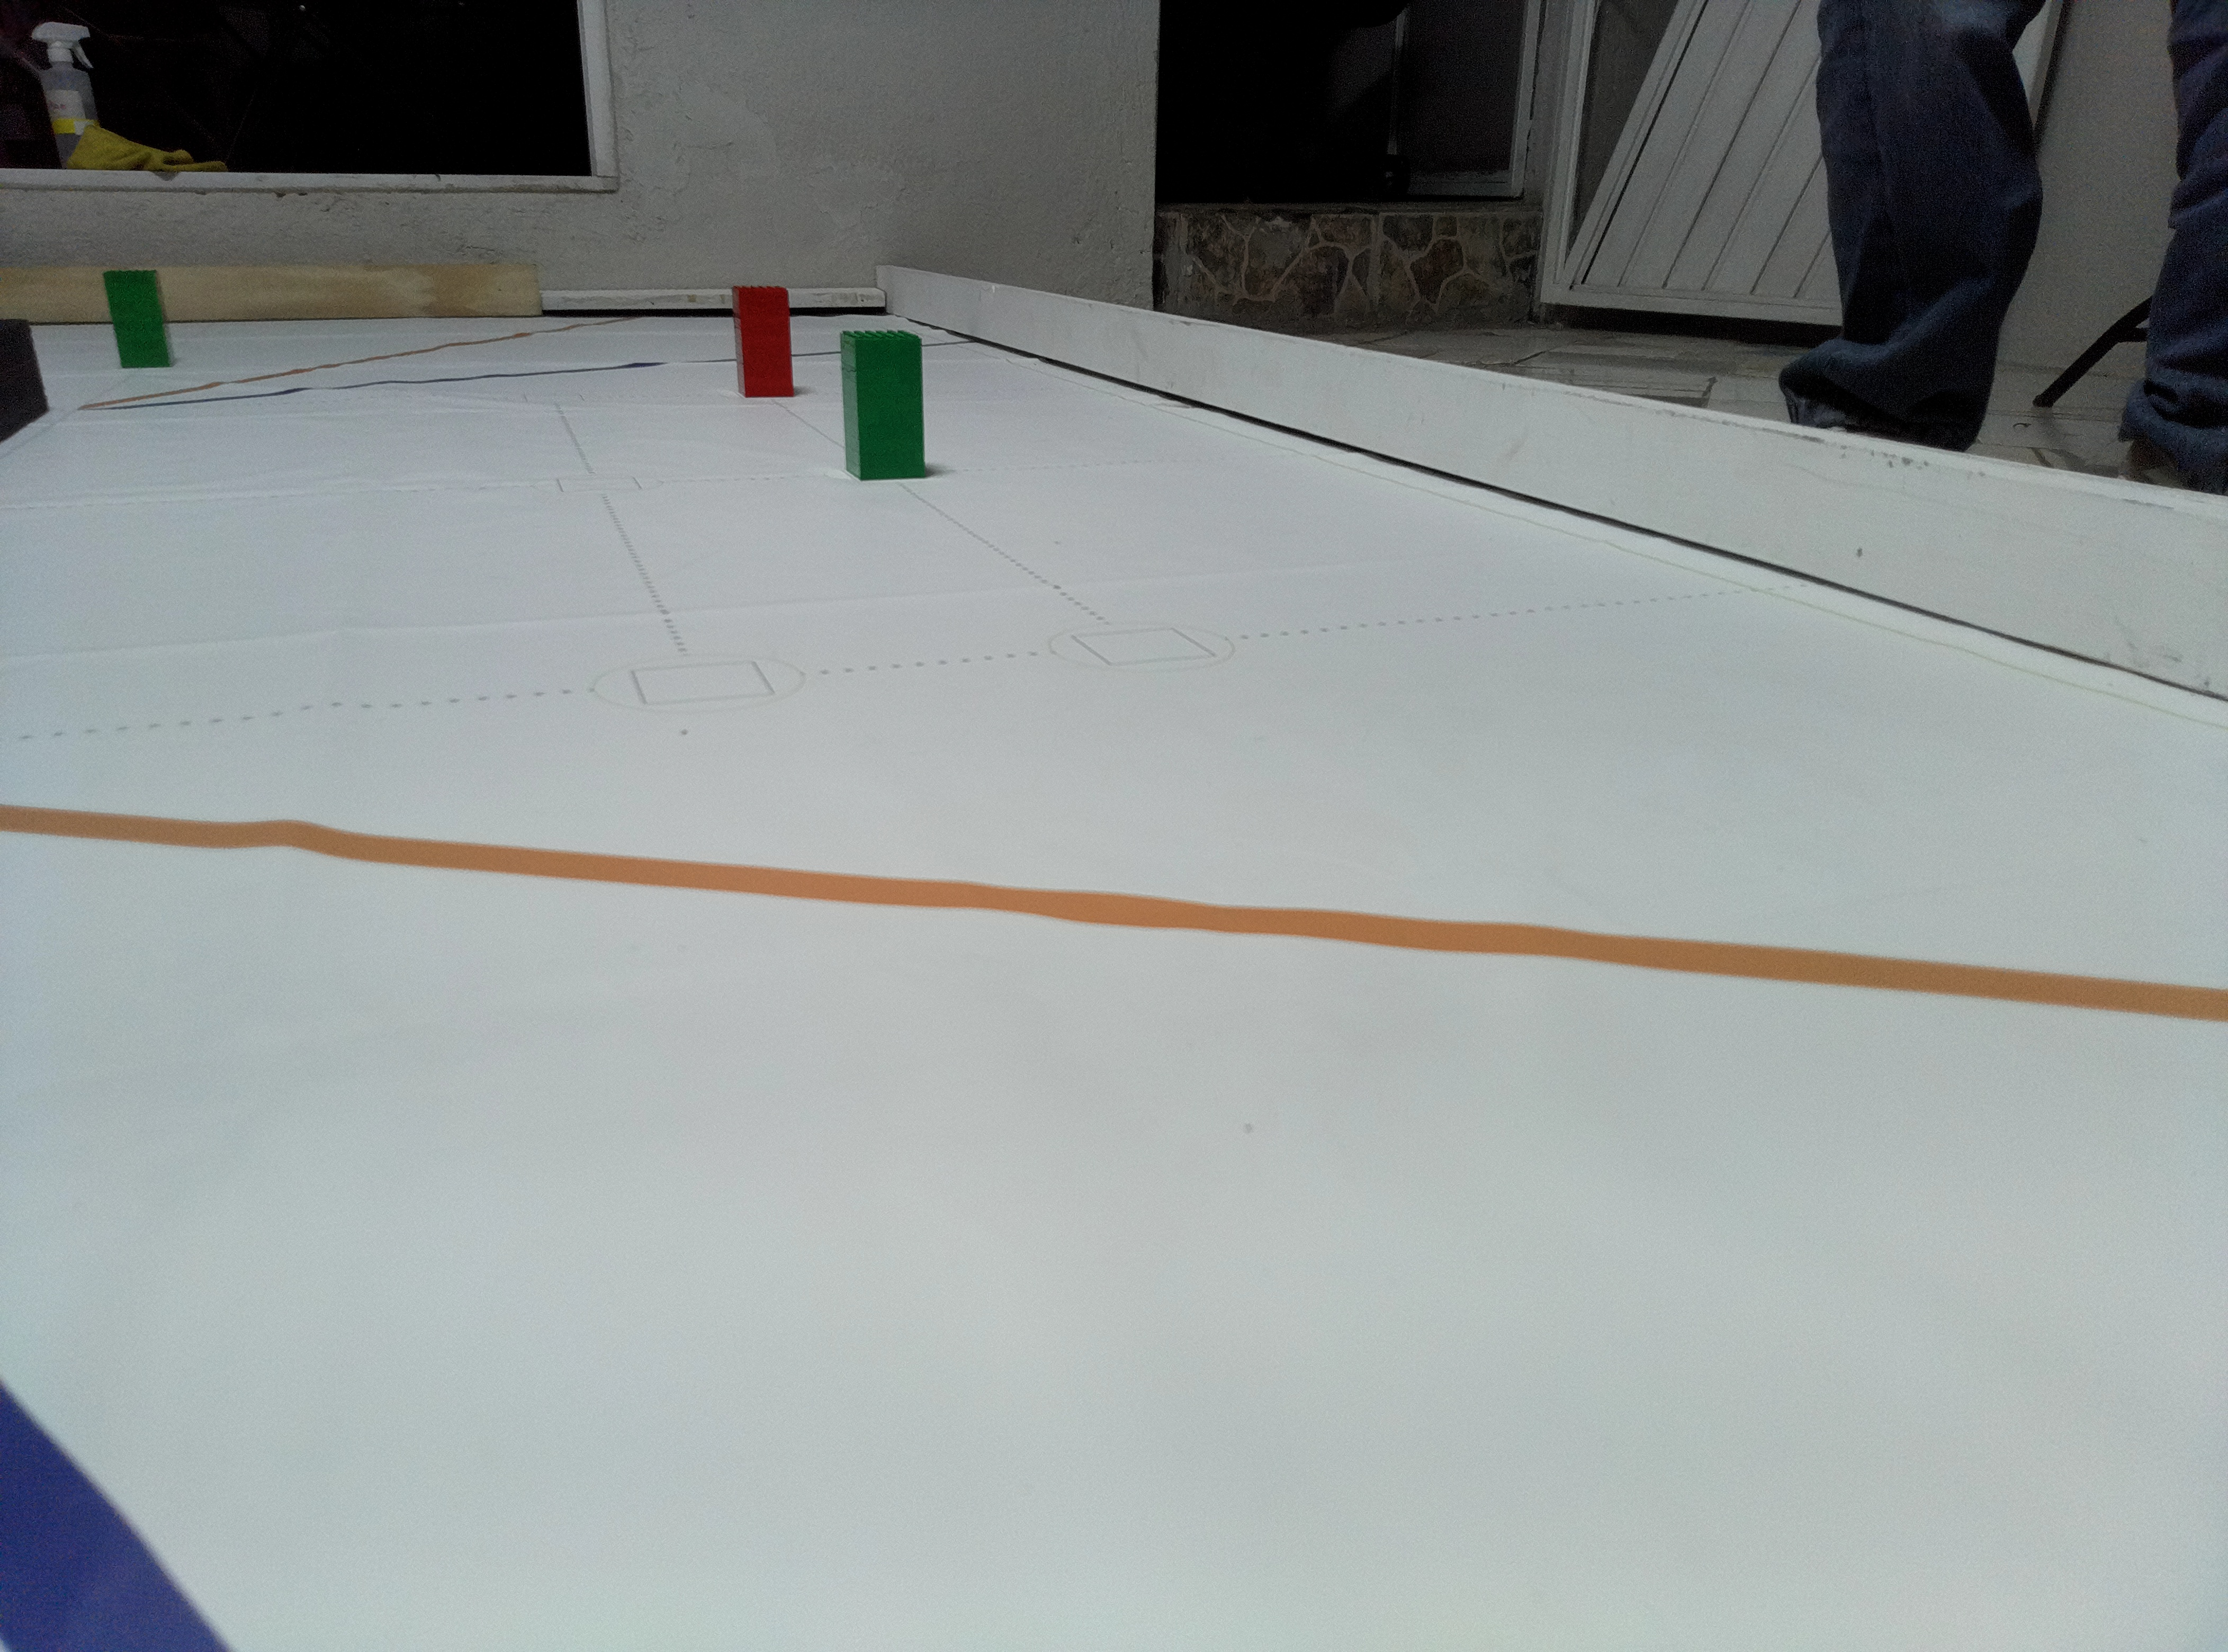greenbox: (836, 330, 927, 481), (101, 267, 177, 370)
redbox: (729, 285, 796, 399)
